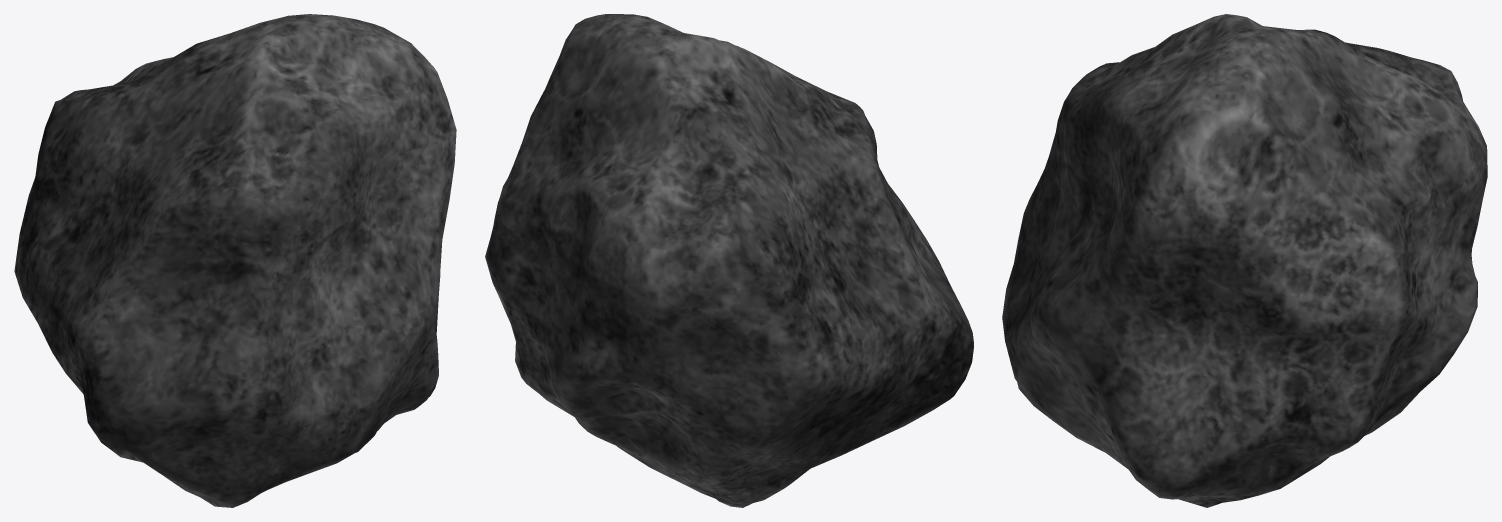
File: asteroid5.glb
The picture shows the model from 3 angles, left to right: view 1: azimuth 30°, elevation 25°; view 2: azimuth 150°, elevation 25°; view 3: azimuth 270°, elevation 25°; orthographic projection. The views are drawn at different scales.
Visible parts, largest first — view 1: Asteroid_no_8_Material #3_0; view 2: Asteroid_no_8_Material #3_0; view 3: Asteroid_no_8_Material #3_0.
Boxes of the visible parts, bbox=[...] form: Asteroid_no_8_Material #3_0: bbox=[14, 14, 456, 507]; Asteroid_no_8_Material #3_0: bbox=[485, 14, 973, 507]; Asteroid_no_8_Material #3_0: bbox=[1002, 14, 1487, 507].
Size of the model in its own units: 7.91 by 8.91 by 7.89.
Materials: 1 (1 with a texture image).
